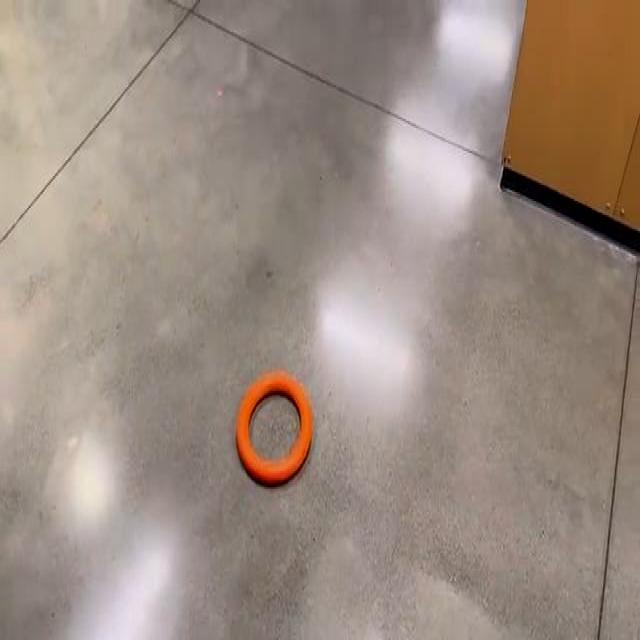note: (236, 371, 312, 484)
